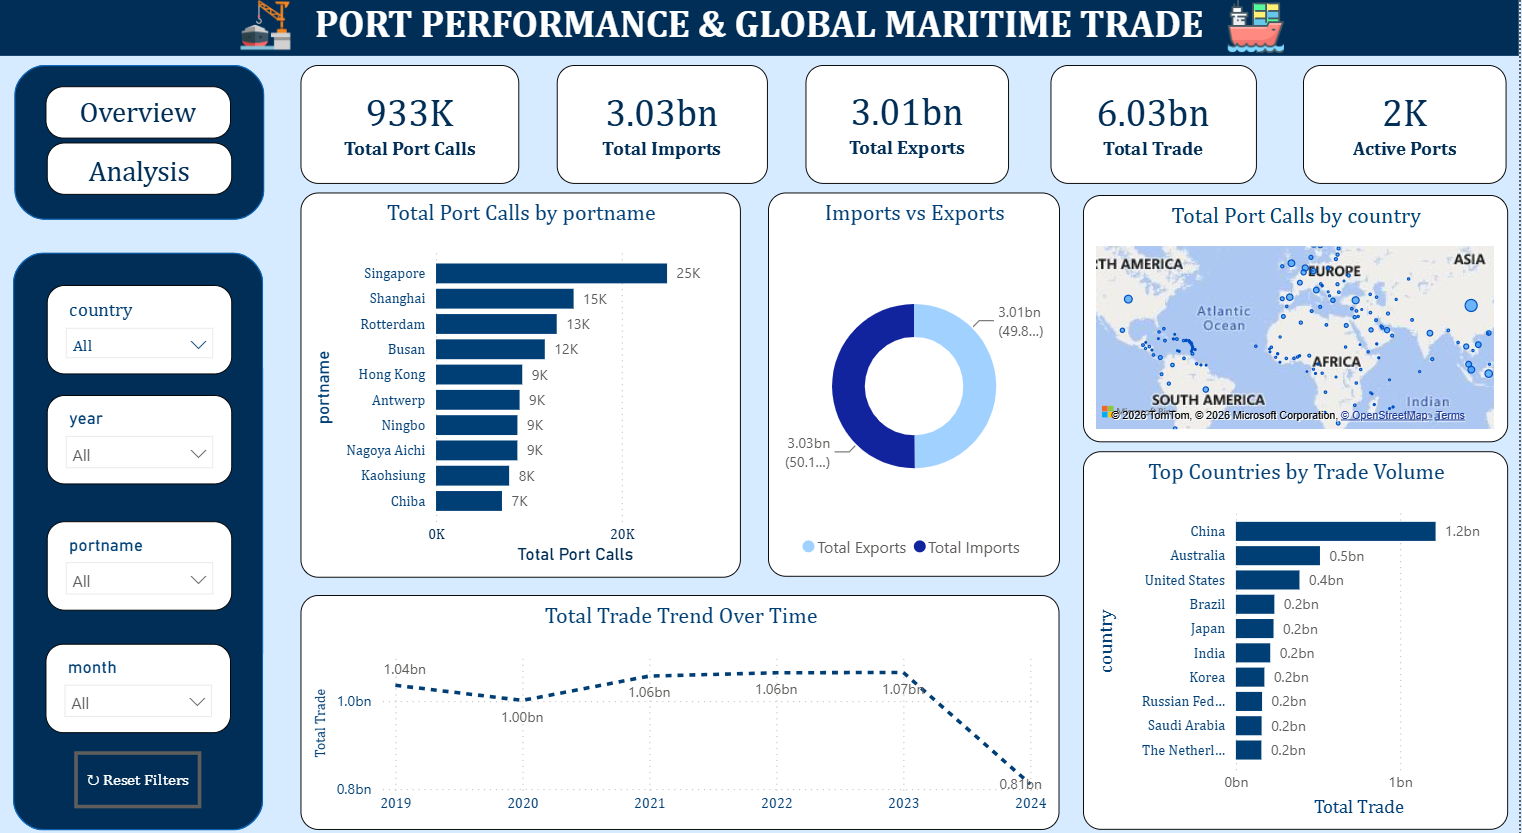

What the dashboard file says about the page in this screenshot:
{"tool":"powerbi","page":{"name":"Overview","canvas":[1280,720],"ordinal":0},"visuals":[{"type":"shape","box":[14,59.3,210.5,130.2],"z":0},{"type":"textbox","box":[0,0,1280.2,51.2],"z":1000},{"type":"shape","box":[12.8,216.3,210.5,486],"z":2000},{"type":"cardVisual","fields":{"Data":["Maritime_Trade.Total Port Calls"]},"box":[254.7,59.3,184.4,100.4],"z":3000},{"type":"cardVisual","fields":{"Data":["Maritime_Trade.Total Imports"]},"box":[469.8,59.3,177.9,100],"z":4000},{"type":"cardVisual","fields":{"Data":["Maritime_Trade.Total Exports"]},"box":[679.1,59.3,171.4,99.9],"z":5000},{"type":"cardVisual","fields":{"Data":["Maritime_Trade.Total Trade"]},"box":[884.9,59.3,173.3,100],"z":6000},{"type":"cardVisual","fields":{"Data":["Maritime_Trade.Active Ports"]},"box":[1097.7,59.3,171.6,100.4],"z":7000},{"type":"map","fields":{"Category":["Maritime_Trade.country"],"Size":["Maritime_Trade.Total Port Calls"]},"box":[912.8,168.6,357.5,208.2],"z":8000},{"type":"clusteredBarChart","fields":{"Category":["Maritime_Trade.portname"],"Y":["Maritime_Trade.Total Port Calls"]},"box":[254.4,166.1,370.1,323.8],"z":9000},{"type":"slicer","fields":{"Values":["Maritime_Trade.year"]},"box":[40.7,336,155.8,75.6],"z":10000},{"type":"slicer","fields":{"Values":["Maritime_Trade.country"]},"box":[40.7,244.2,155.8,75.6],"z":11000},{"type":"slicer","fields":{"Values":["Maritime_Trade.portname"]},"box":[40.7,443,155.8,75.6],"z":12000},{"type":"slicer","fields":{"Values":["Maritime_Trade.month"]},"box":[39.5,545.4,155.8,75.6],"z":13000},{"type":"barChart","title":"Top Countries by Trade Volume","fields":{"Category":["Maritime_Trade.country"],"Y":["Maritime_Trade.Total Trade"]},"box":[912.8,383.7,357.6,318.6],"z":14000},{"type":"lineChart","title":"Total Trade Trend Over Time","fields":{"Category":["Maritime_Trade.year"],"Y":["Maritime_Trade.Total Trade"]},"box":[254.6,505,638.6,197.6],"z":15000},{"type":"donutChart","title":"Imports vs Exports","fields":{"Y":["Maritime_Trade.Total Exports","Maritime_Trade.Total Imports"]},"box":[647.7,166.3,245.3,323.3],"z":16000},{"type":"actionButton","box":[39.5,76.7,155.8,44.2],"z":17000},{"type":"actionButton","box":[40.7,124.4,155.8,44.2],"z":18000},{"type":"actionButton","box":[63.6,636.4,106.9,48],"z":19000},{"type":"image","box":[1010.5,0,95.3,50],"z":20000},{"type":"image","box":[182.6,0,83.7,50],"z":21000}]}

Visuals, with their boxes in screenshot pixels (x1, y1, x2, y2), scaled from the page's 1280x720 canvas onto the 1522x833 screenshot:
shape: l=17, t=69, r=267, b=219
textbox: l=0, t=0, r=1521, b=59
shape: l=15, t=250, r=266, b=813
cardVisual - Maritime_Trade.Total Port Calls: l=303, t=69, r=522, b=185
cardVisual - Maritime_Trade.Total Imports: l=559, t=69, r=770, b=184
cardVisual - Maritime_Trade.Total Exports: l=807, t=69, r=1011, b=184
cardVisual - Maritime_Trade.Total Trade: l=1052, t=69, r=1258, b=184
cardVisual - Maritime_Trade.Active Ports: l=1305, t=69, r=1509, b=185
map - Maritime_Trade.country x Maritime_Trade.Total Port Calls: l=1085, t=195, r=1510, b=436
clusteredBarChart - Maritime_Trade.portname x Maritime_Trade.Total Port Calls: l=302, t=192, r=743, b=567
slicer - Maritime_Trade.year: l=48, t=389, r=234, b=476
slicer - Maritime_Trade.country: l=48, t=283, r=234, b=370
slicer - Maritime_Trade.portname: l=48, t=513, r=234, b=600
slicer - Maritime_Trade.month: l=47, t=631, r=232, b=718
"Top Countries by Trade Volume" barChart: l=1085, t=444, r=1511, b=813
"Total Trade Trend Over Time" lineChart: l=303, t=584, r=1062, b=813
"Imports vs Exports" donutChart: l=770, t=192, r=1062, b=566
actionButton: l=47, t=89, r=232, b=140
actionButton: l=48, t=144, r=234, b=195
actionButton: l=76, t=736, r=203, b=792
image: l=1202, t=0, r=1315, b=58
image: l=217, t=0, r=317, b=58
